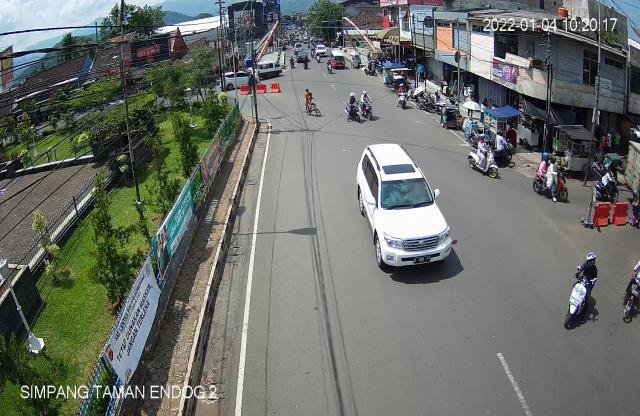Mobil: (354, 141, 457, 276)
Motor: (561, 245, 598, 330), (530, 149, 568, 202), (467, 132, 496, 184), (593, 155, 622, 207), (343, 91, 364, 128), (358, 90, 373, 122)
